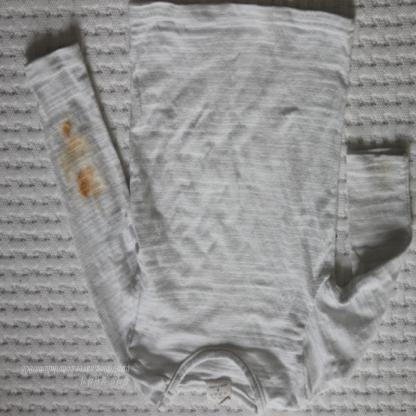kimchi: (51, 116, 106, 206), (74, 173, 96, 200), (53, 117, 71, 143)
